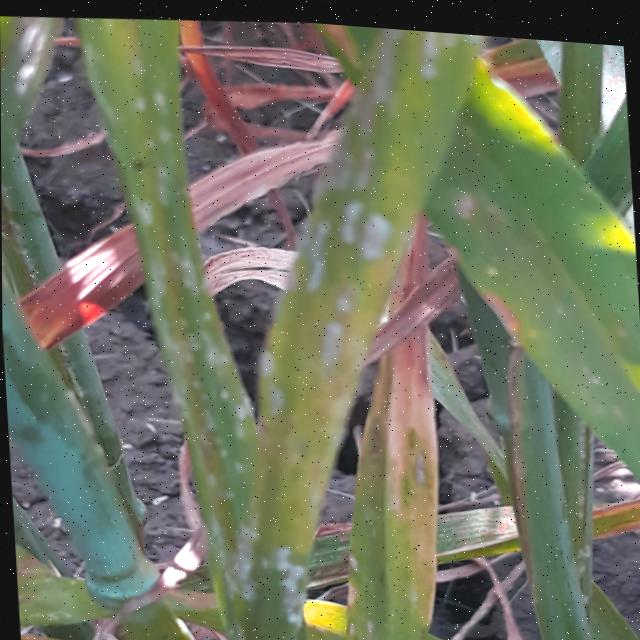powder_mildew: (79, 5, 374, 640), (331, 19, 546, 640), (519, 97, 640, 457), (0, 13, 81, 218), (14, 532, 124, 640)
